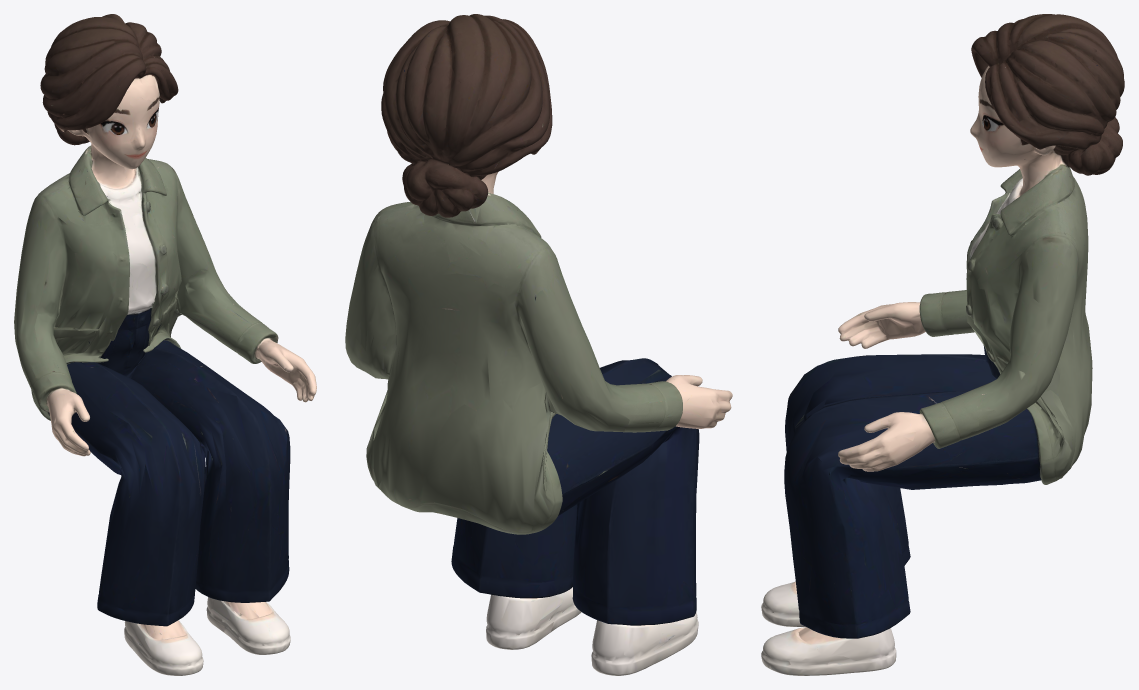
The model's file is vocal-trainer.glb.
3 renders of one model, left to right at view 1: azimuth 30°, elevation 25°; view 2: azimuth 150°, elevation 25°; view 3: azimuth 270°, elevation 25°, orthographic. The views are drawn at different scales.
Parts seen in each view (by area): view 1: vocal-trainer-body; view 2: vocal-trainer-body; view 3: vocal-trainer-body.
Part boxes in pixels (x1,y1,x2,y2): vocal-trainer-body: (14, 14, 316, 675); vocal-trainer-body: (345, 14, 732, 675); vocal-trainer-body: (761, 14, 1124, 675).
Size of the model in its own units: 0.5888 by 1.24 by 0.6541.
Materials: 1 (1 with a texture image).
